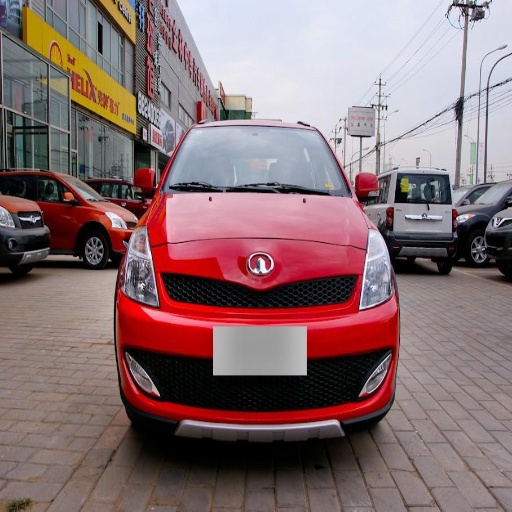front_bumper: (124, 247, 395, 439)
front_left_light: (359, 237, 395, 309)
front_right_light: (126, 225, 150, 300)
hood: (149, 192, 369, 248)
